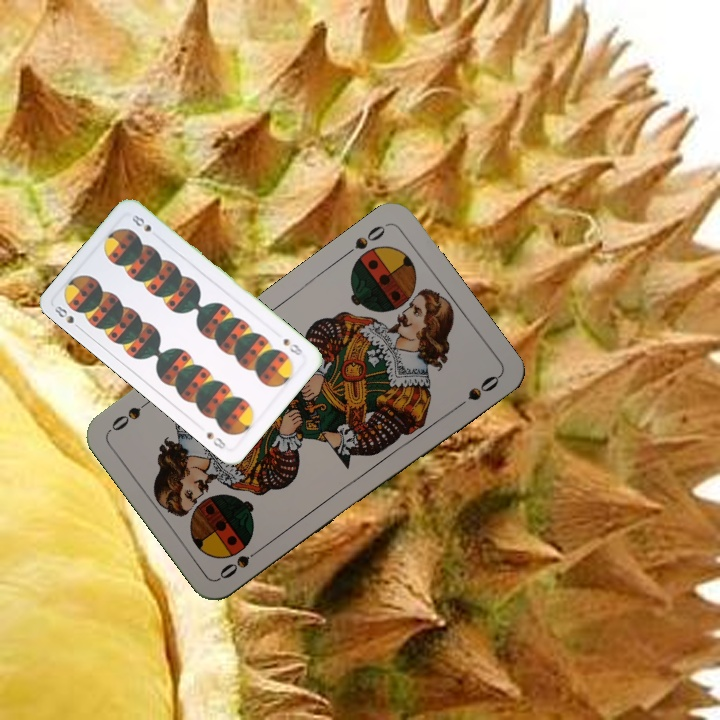S8: (50, 301, 85, 333), (279, 334, 305, 358)
SO: (215, 541, 267, 582), (339, 219, 390, 260)
